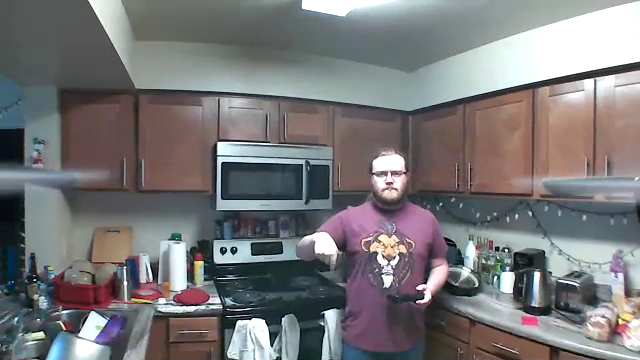down: (314, 232, 341, 280)
